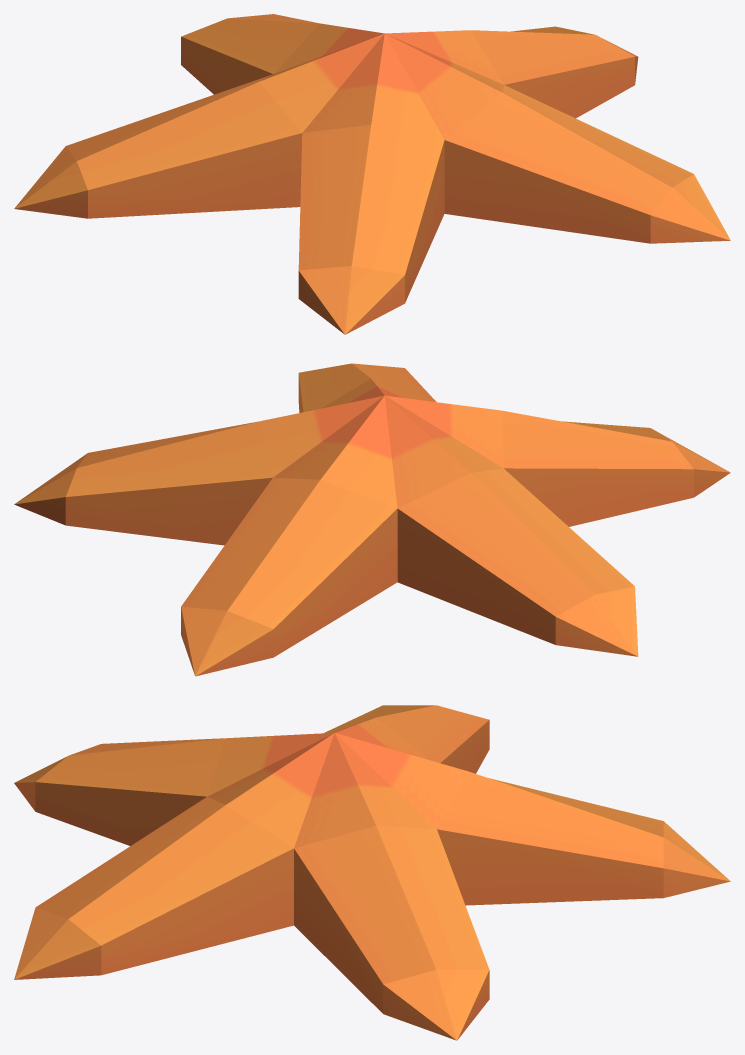
File: Starfish.fbx
The picture shows the model from 3 angles, top to bottom: view 1: azimuth 30°, elevation 25°; view 2: azimuth 150°, elevation 25°; view 3: azimuth 270°, elevation 25°; orthographic projection. The views are drawn at different scales.
Visible parts, largest first — view 1: Starfish; view 2: Starfish; view 3: Starfish.
Boxes of the visible parts, left/top/right/bottom form: Starfish: left=14, top=14, right=730, bottom=334; Starfish: left=14, top=363, right=730, bottom=676; Starfish: left=14, top=705, right=730, bottom=1040.
Size of the model in its own units: 0.3941 by 0.0858 by 0.3748.
